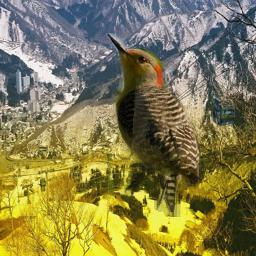Woodpecker: (106, 33, 201, 217)
